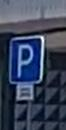Estacionamento autorizado: (3, 26, 48, 87)
